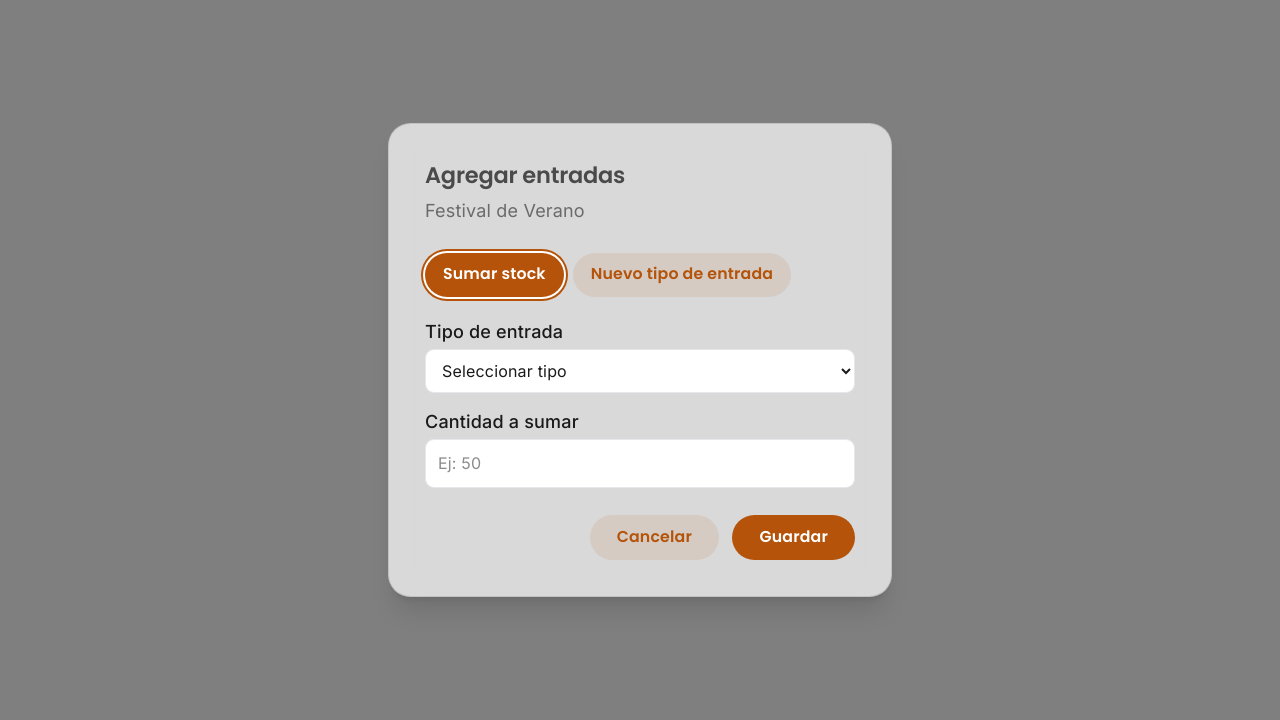
AddTicketsModal › shows the backend error and neither invalidates nor succeeds
The width and height of the screenshot is (1280, 720).
Select "General — 100 disponibles" in the dropdown labelled "Tipo de entrada" at [640, 371], box [425,349,855,393]
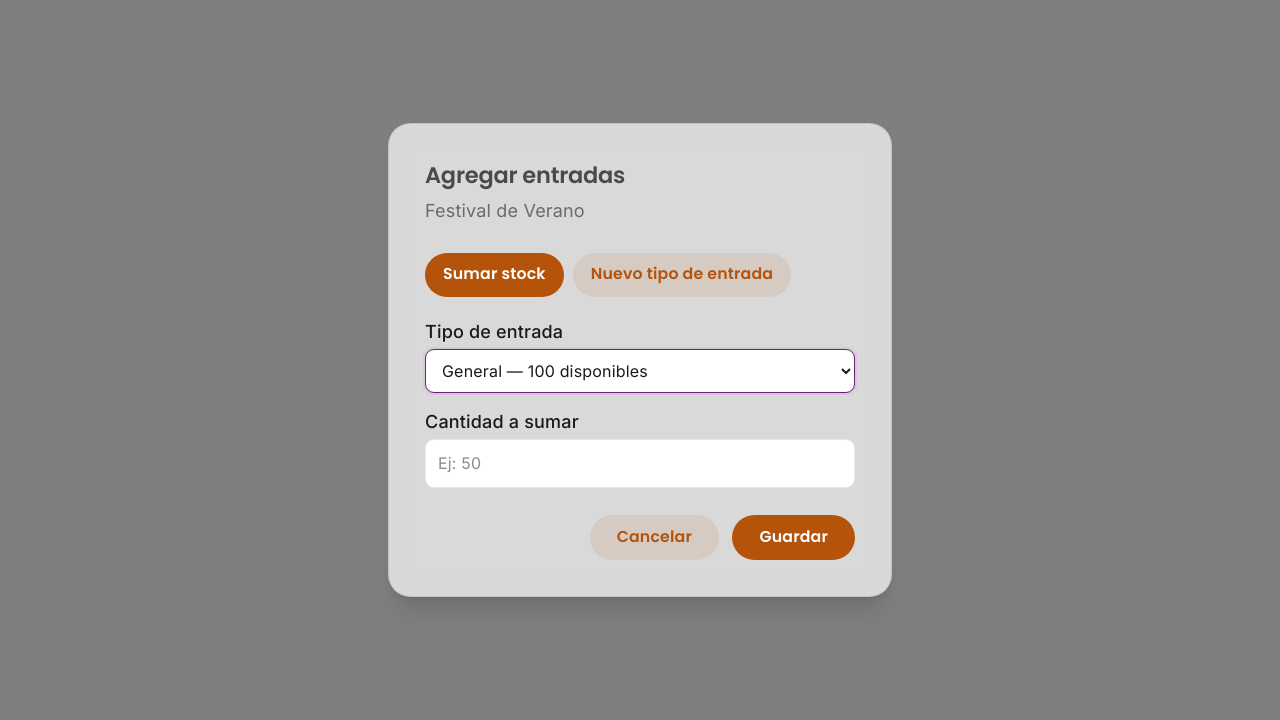
Type "5" into the number field labelled "Cantidad a sumar" at [640, 463], box [425,439,855,488]
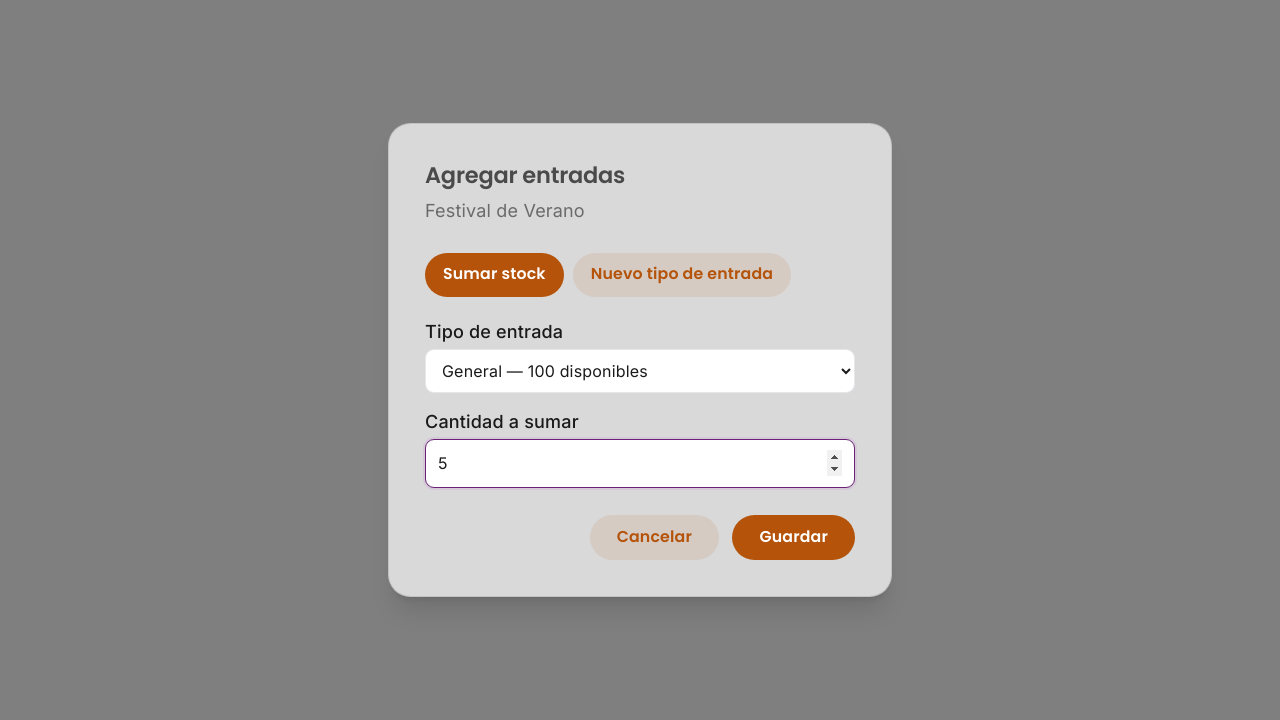
Click the button "Guardar" at [794, 537], box [732,514,855,560]
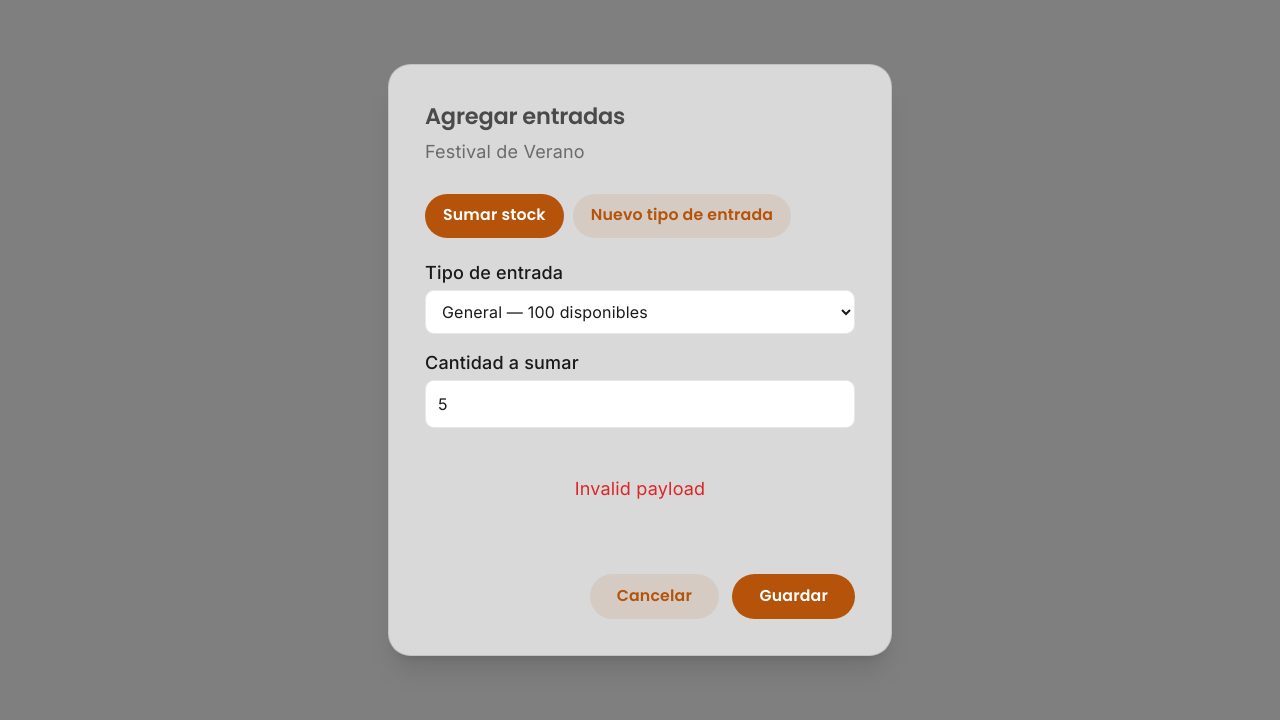
Check: the message reads "Invalid payload", box [575,478,705,500]
